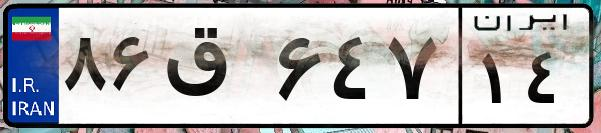1: (475, 38, 525, 113)
4: (330, 28, 385, 110), (525, 38, 570, 115)
6: (270, 28, 330, 110), (110, 28, 158, 98)
7: (385, 28, 445, 110)
8: (57, 26, 110, 100)
ق: (158, 20, 270, 120)
